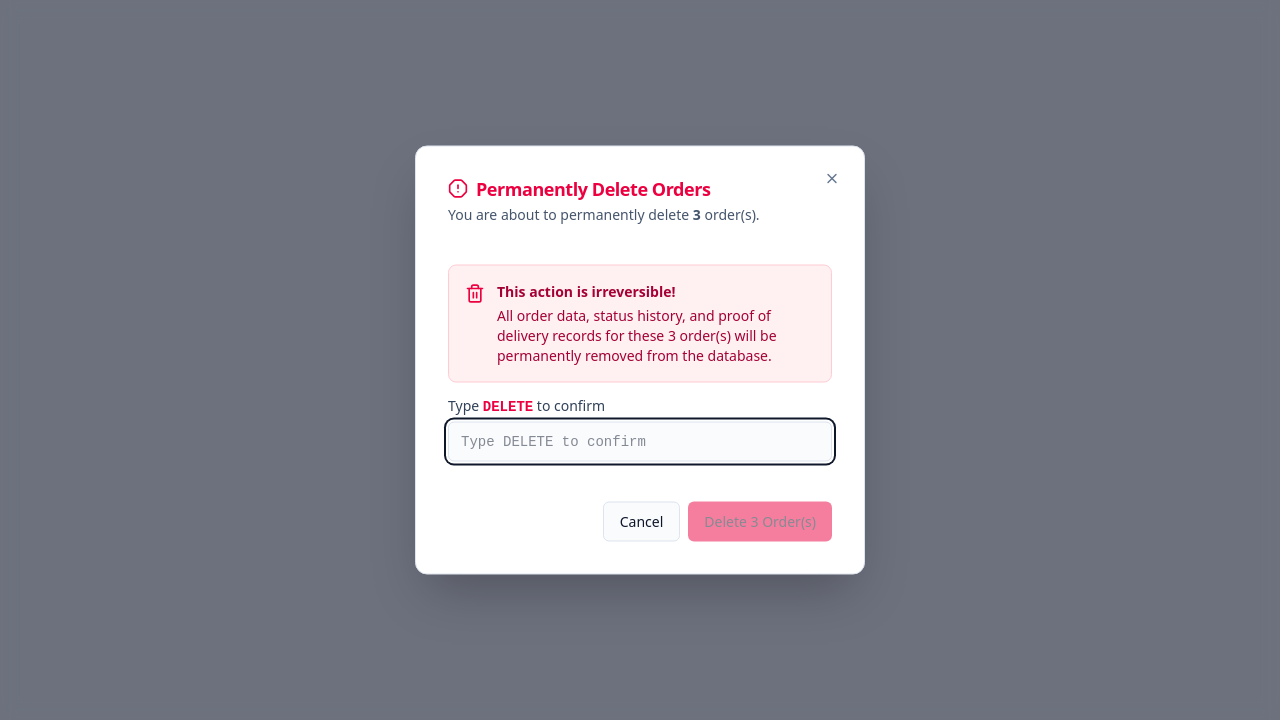
Test: BatchDeleteDialog Component › Type-to-Confirm Pattern › delete button is enabled when "DELETE" is typed exactly
The width and height of the screenshot is (1280, 720).
Step 1. Type "DELETE" into the field with placeholder "Type DELETE to confirm" → (640, 442), box [448,422,832,462]
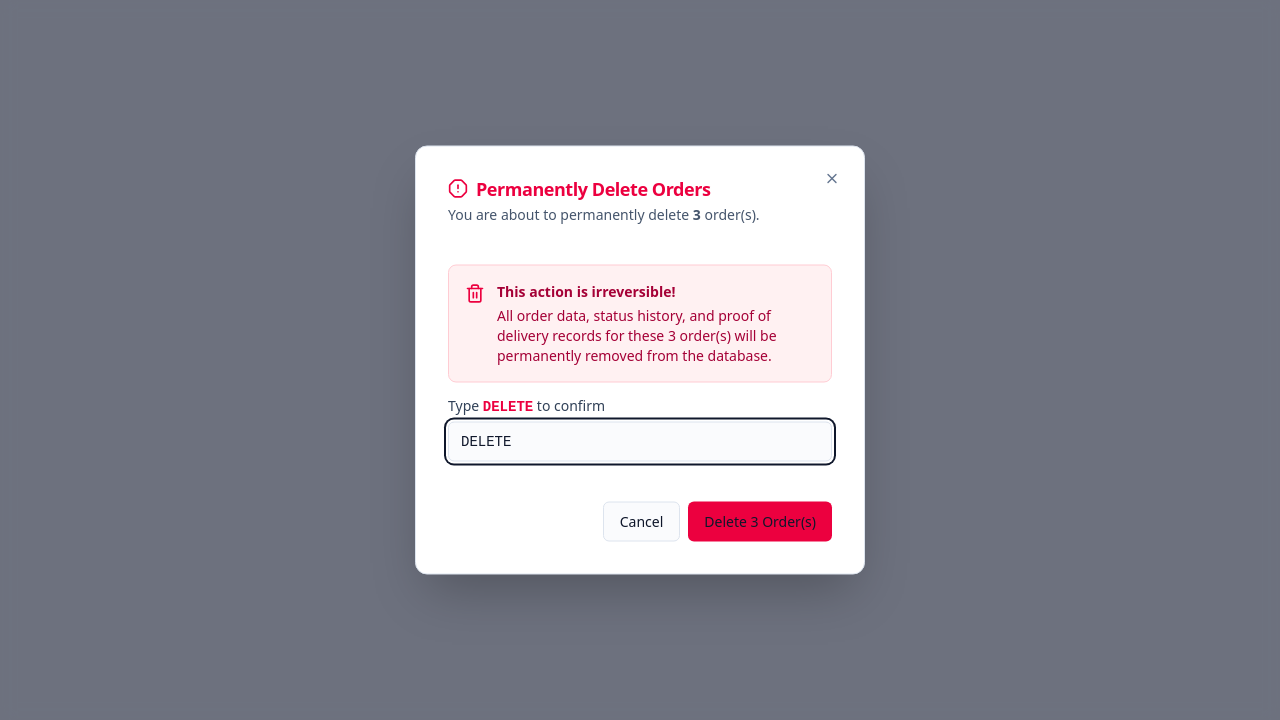
Check: the button "Delete 3 Order(s)" is enabled, box [688,502,832,542]
